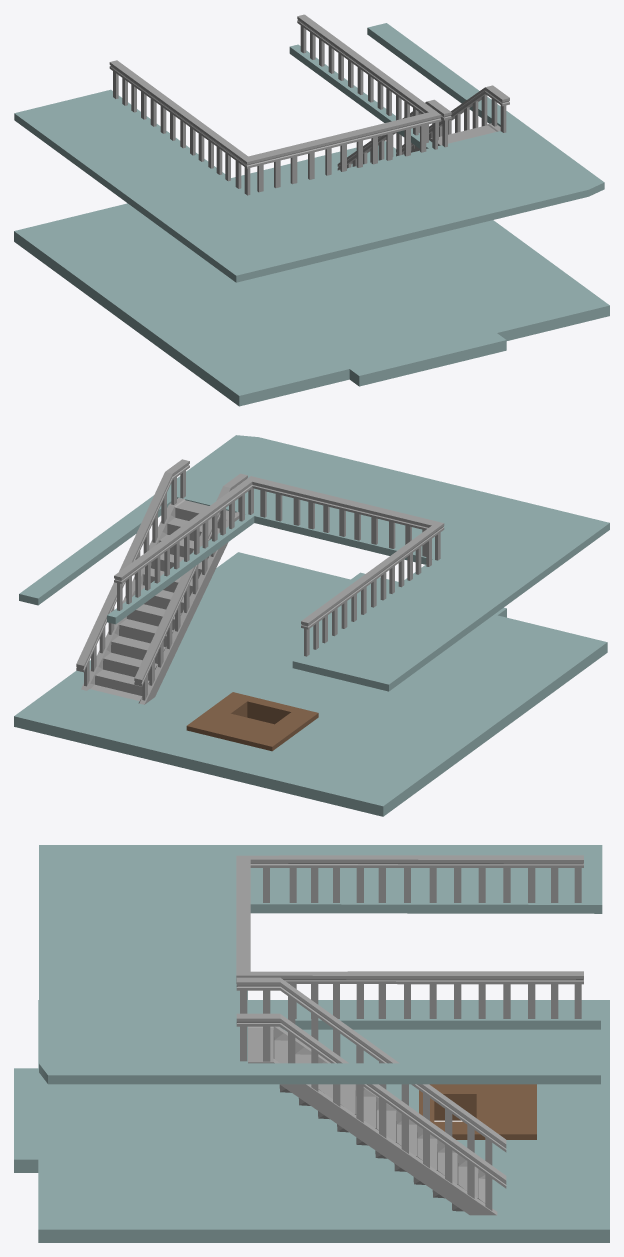
The model's file is ChurchFoundationSecondFloor.fbx.
3 views of the same model, one above another, from view 1: azimuth 30°, elevation 25°; view 2: azimuth 150°, elevation 25°; view 3: azimuth 270°, elevation 25° (orthographic). The views are drawn at different scales.
Parts seen in each view (by area): view 1: pCube296; view 2: pCube296; view 3: pCube296.
Boxes of the visible parts, x1,y1,x2,y2 form: pCube296: (14, 14, 609, 406); pCube296: (14, 435, 609, 816); pCube296: (14, 845, 609, 1242).
Size of the model in its own units: 4.86 by 2.14 by 5.3.
